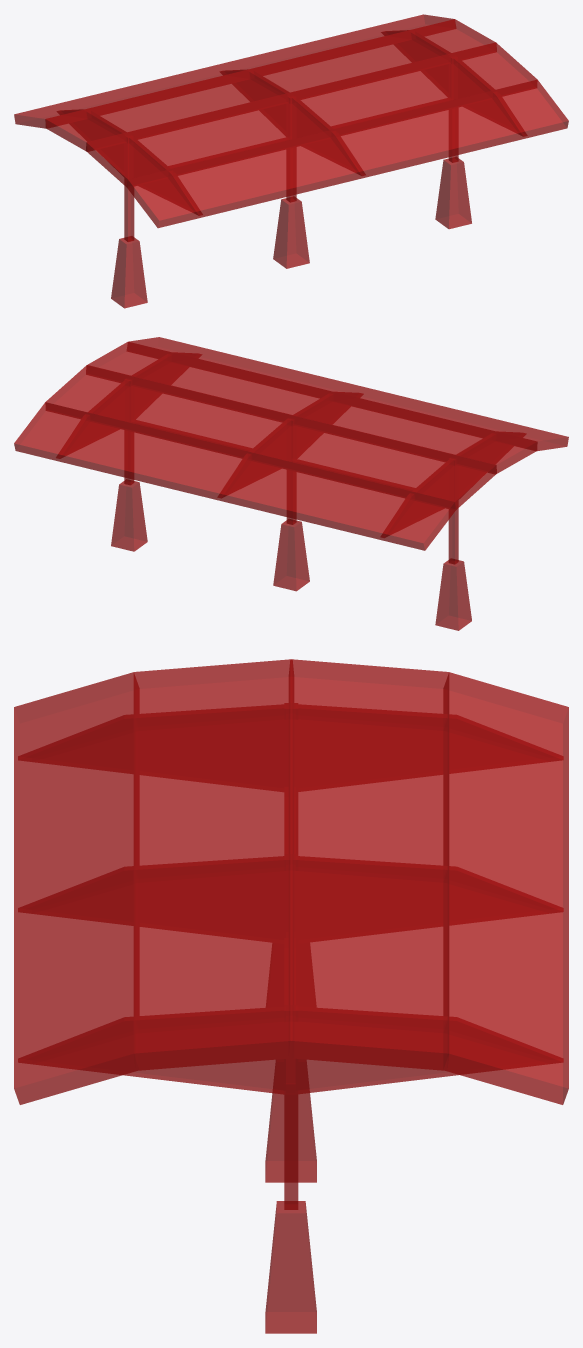
The model's file is SM_Bld_Shelter_01_Collision.fbx.
3 views of the same model, one above another, from view 1: azimuth 30°, elevation 25°; view 2: azimuth 150°, elevation 25°; view 3: azimuth 270°, elevation 25° (orthographic). The views are drawn at different scales.
Parts seen in each view (by area): view 1: SM_Bld_Shelter_01_Collision; view 2: SM_Bld_Shelter_01_Collision; view 3: SM_Bld_Shelter_01_Collision.
Part boxes in pixels (x1,y1,x2,y2): SM_Bld_Shelter_01_Collision: (14,14,568,308); SM_Bld_Shelter_01_Collision: (14,337,568,630); SM_Bld_Shelter_01_Collision: (14,659,568,1333).
Size of the model in its own units: 2005 by 788 by 1232.
